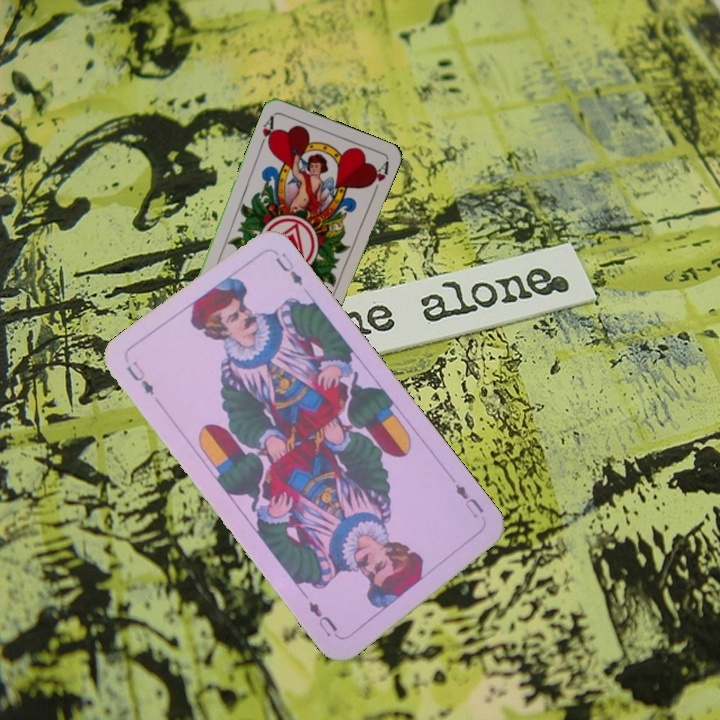EU: (451, 480, 487, 521), (122, 357, 157, 399)
HA: (256, 112, 279, 150)
